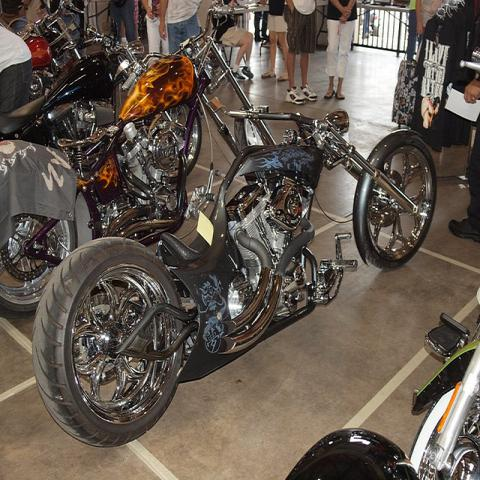motorcycle: (43, 113, 440, 445), (0, 3, 274, 320), (280, 316, 480, 474), (0, 27, 145, 149), (17, 0, 90, 103)
